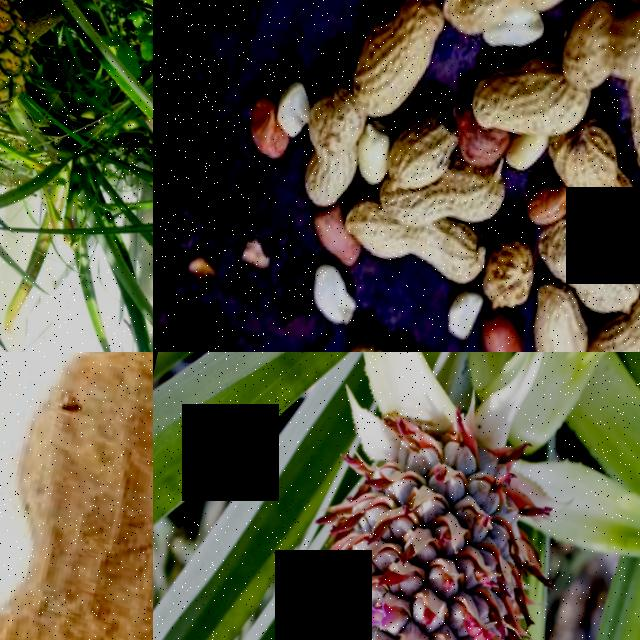peanuts: (0, 352, 153, 640), (335, 0, 448, 119), (347, 200, 488, 289), (278, 81, 370, 216), (456, 46, 568, 146), (429, 0, 589, 62), (520, 213, 628, 301), (547, 0, 640, 100), (374, 106, 457, 204), (540, 116, 626, 204), (466, 230, 537, 316), (504, 287, 589, 352), (341, 116, 396, 193), (607, 62, 640, 186), (461, 306, 522, 352), (609, 202, 640, 291)
